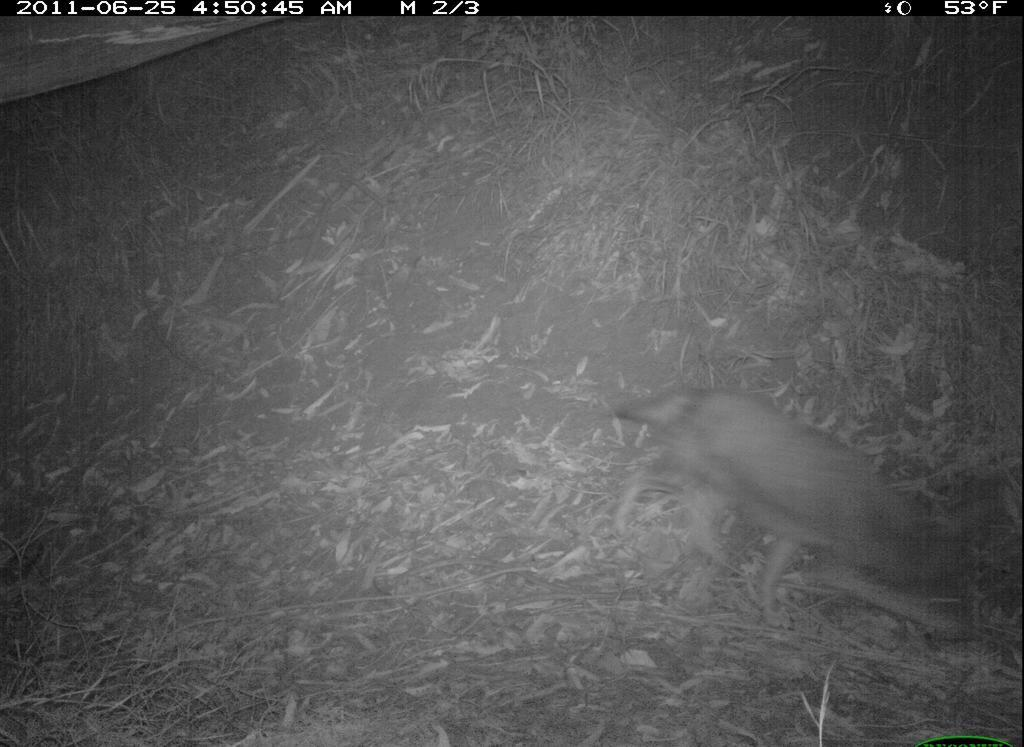coyote: (597, 379, 1018, 636)
